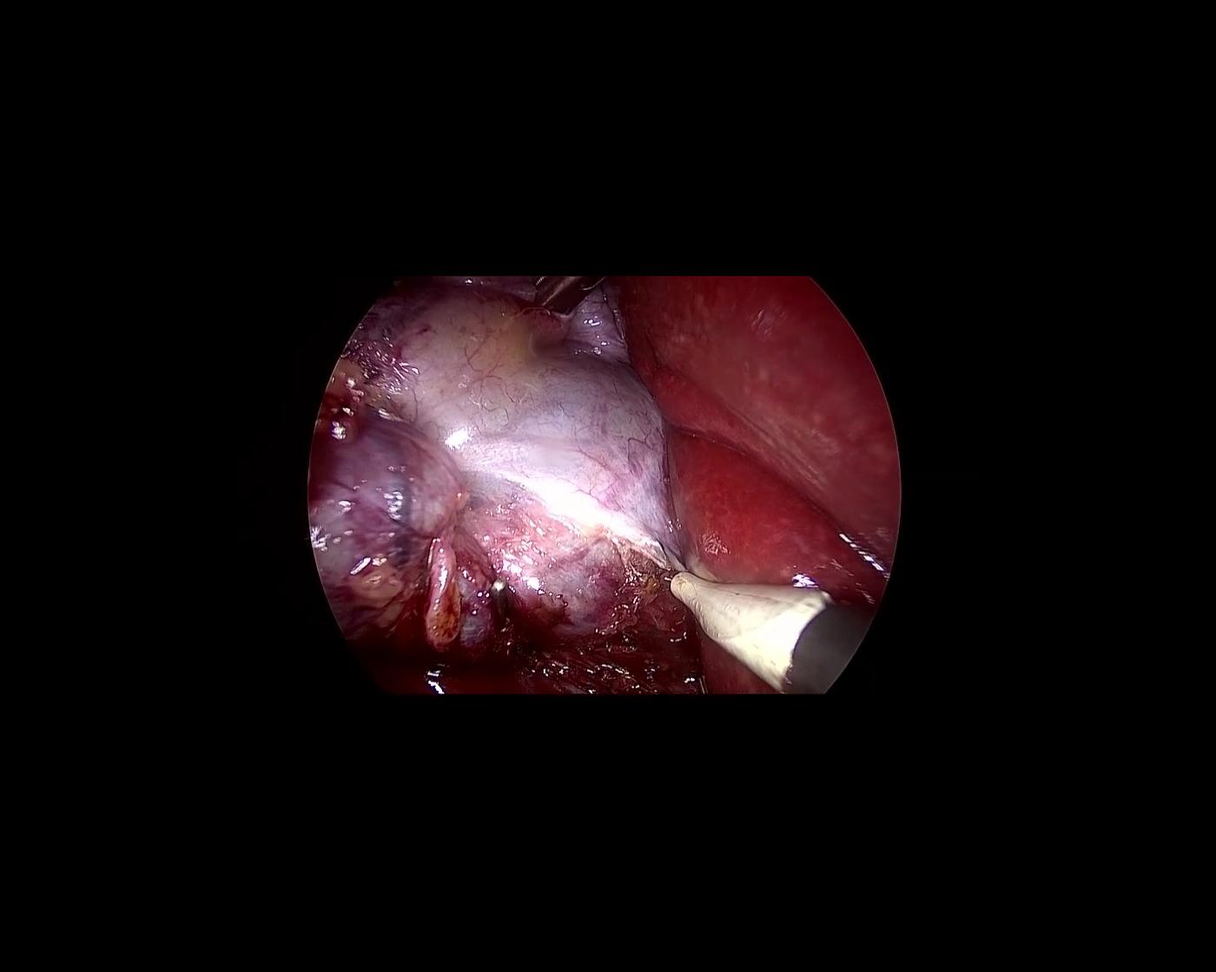Cautery: (648, 509, 872, 712)
Gallbladder: (293, 263, 687, 656)
Liver: (619, 252, 908, 625)
